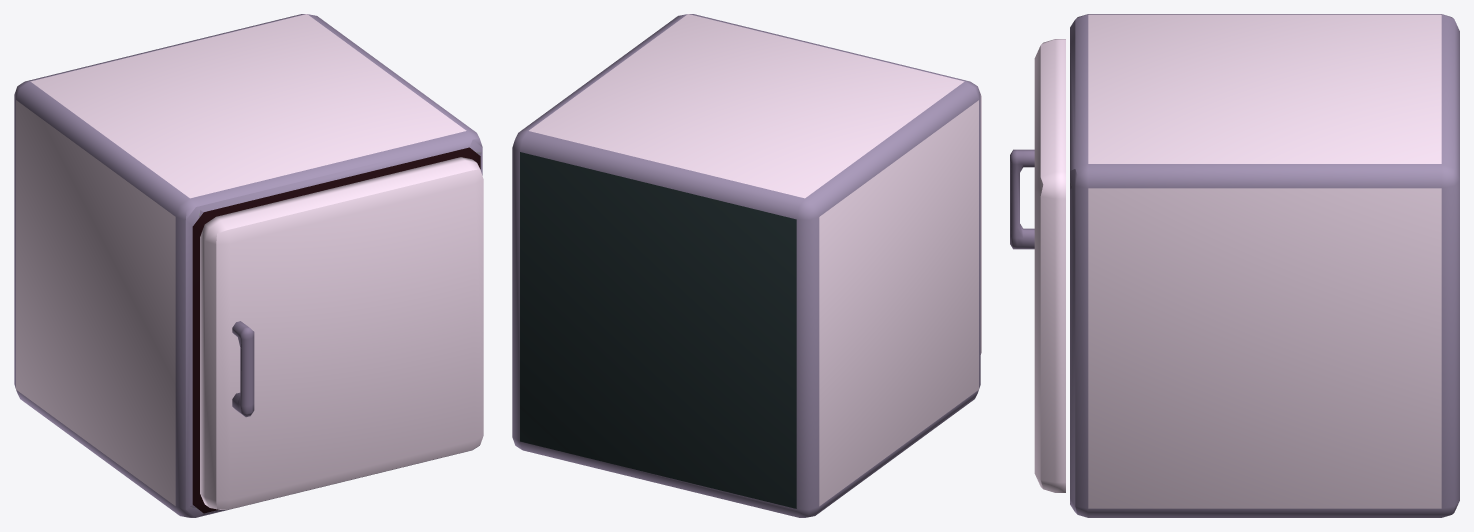
File: Fridge.fbx
3 views of the same model, side by side, from view 1: azimuth 30°, elevation 25°; view 2: azimuth 150°, elevation 25°; view 3: azimuth 270°, elevation 25° (orthographic). The views are drawn at different scales.
Visible parts, largest first — view 1: Fridge; view 2: Fridge; view 3: Fridge.
Part boxes in pixels (x1=…): Fridge: x1=14, y1=14, x2=483, y2=517; Fridge: x1=512, y1=14, x2=981, y2=517; Fridge: x1=1010, y1=14, x2=1459, y2=517.
Size of the model in its own units: 200 by 200 by 231.
Materials: 1 (1 with a texture image).
